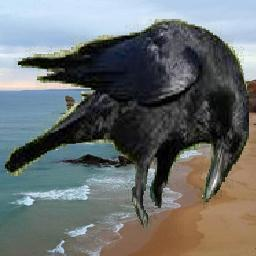Crow: (5, 20, 249, 231)
